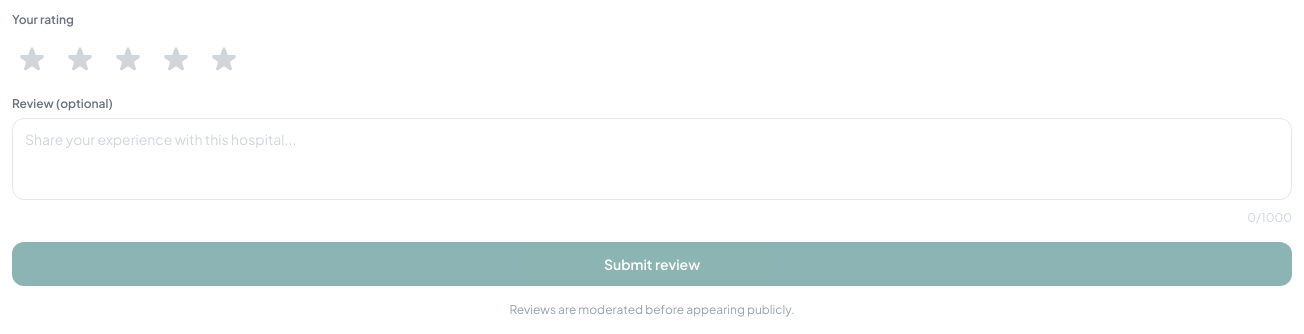
RatingWidget › submit button is enabled after selecting a rating
Click the 3rd button at (128, 60), box [108, 40, 148, 80]
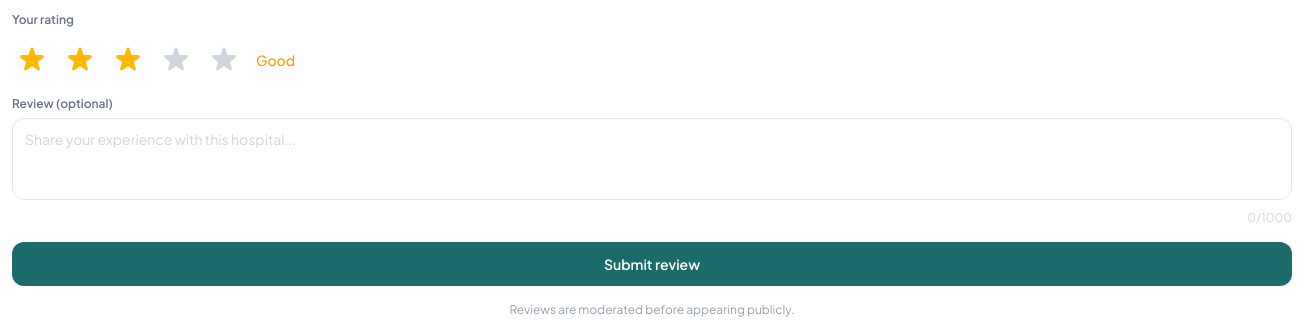
Expected: the button "Submit review" is enabled, [12, 242, 1292, 286]
